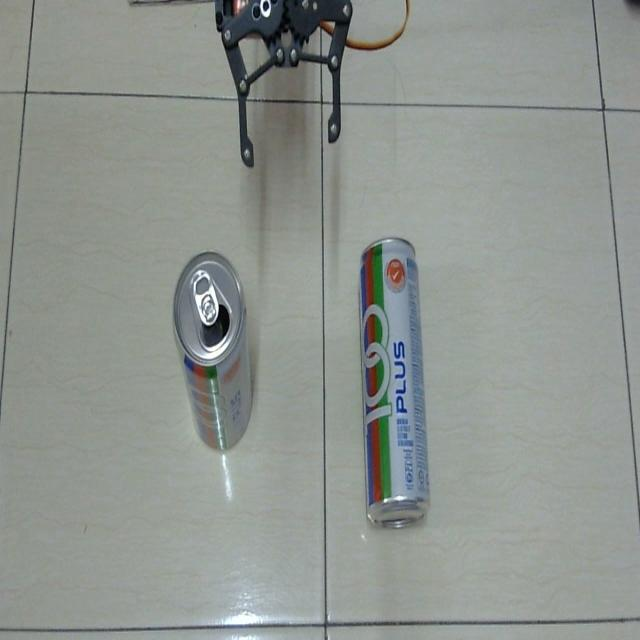Metal-laydown_0-rotation: (354, 226, 433, 540)
Metal-stand-rotation: (165, 247, 261, 456)
